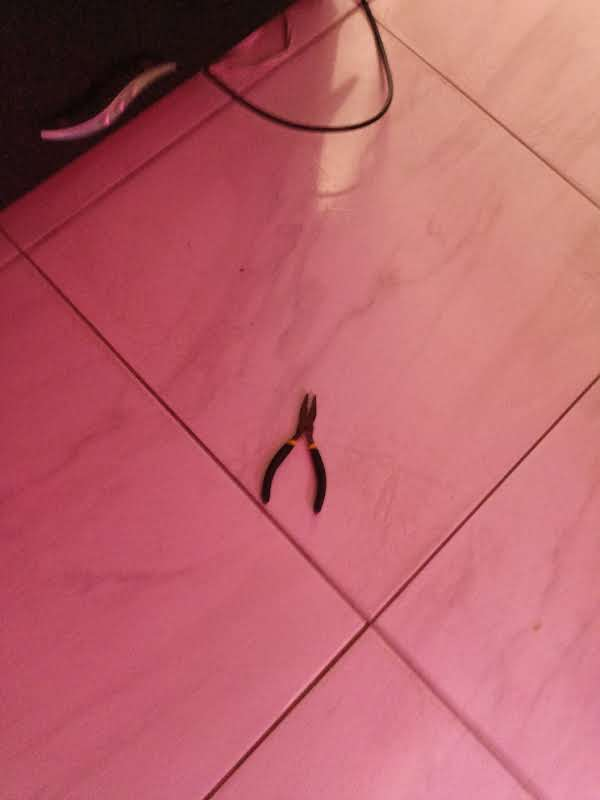Pinzas: (261, 392, 326, 513)
